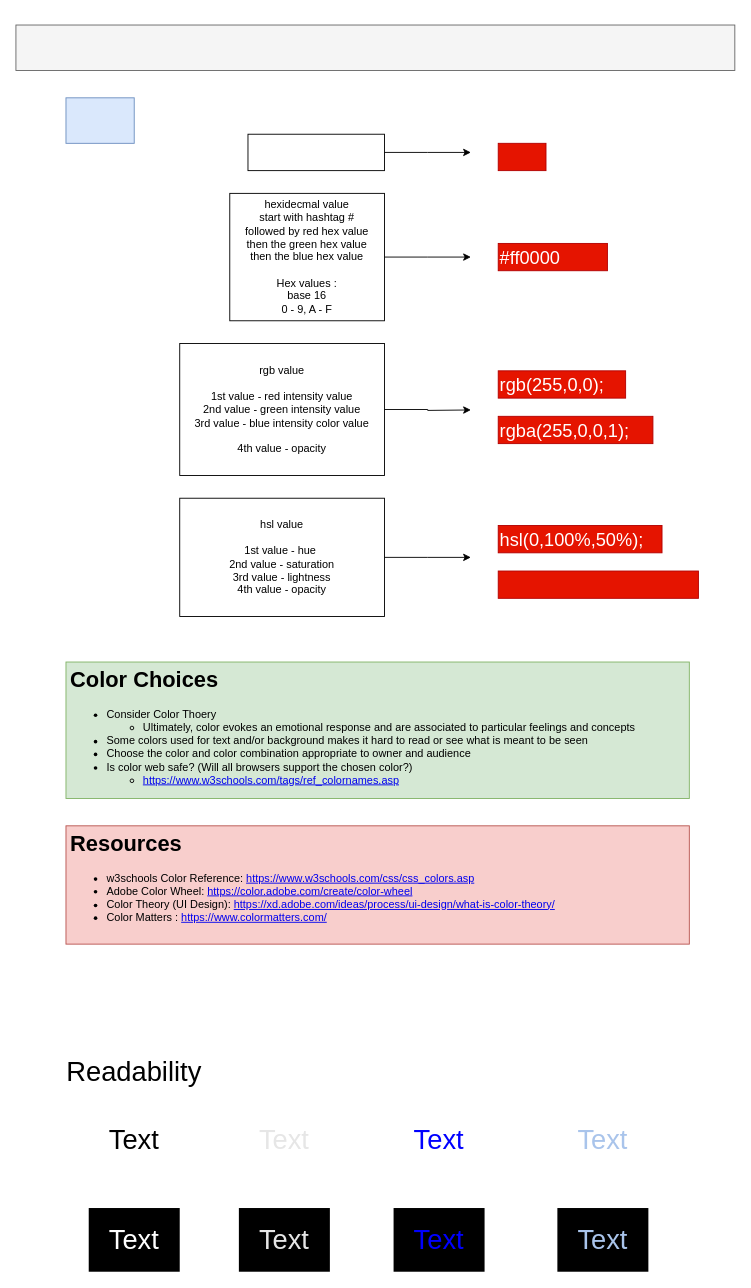
This 751x1288 diagram has some shape labels left out. The centre of each missing label's shape, as x and y in pixels:
"Color" goes at [375,47].
"color names (supports 147 colors)" goes at [315,152].
"hsla(0, 100%, 50%, 1);" goes at [597,584].
"red" goes at [521,156].
"Values" goes at [99,120].
